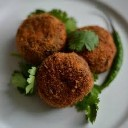cutlet: (39, 53, 93, 105), (71, 23, 115, 74), (18, 15, 66, 59)
